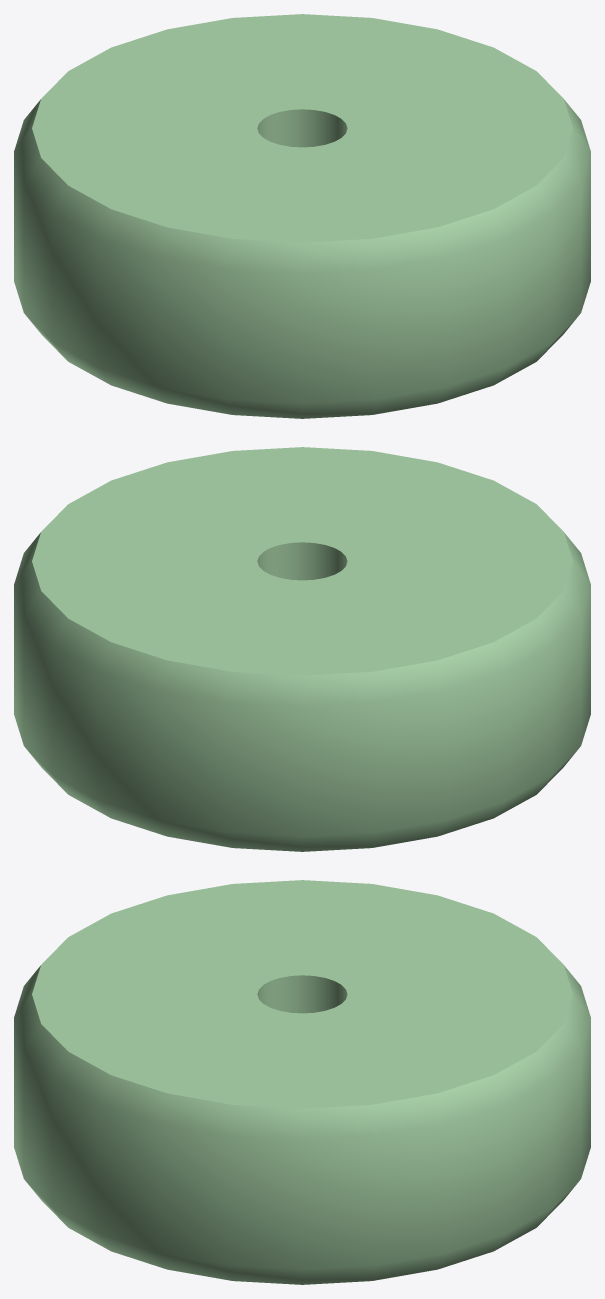
The model's file is ring0.gltf.
3 views of the same model, one above another, from view 1: azimuth 30°, elevation 25°; view 2: azimuth 150°, elevation 25°; view 3: azimuth 270°, elevation 25° (orthographic).
Parts seen in each view (by area): view 1: 0; view 2: 0; view 3: 0.
Boxes of the visible parts, x1,y1,x2,y2 form: 0: (14, 14, 590, 418); 0: (14, 447, 590, 851); 0: (14, 880, 590, 1284).
Bounding box in the file's own units: 0.4552 × 0.1534 × 0.4552.
